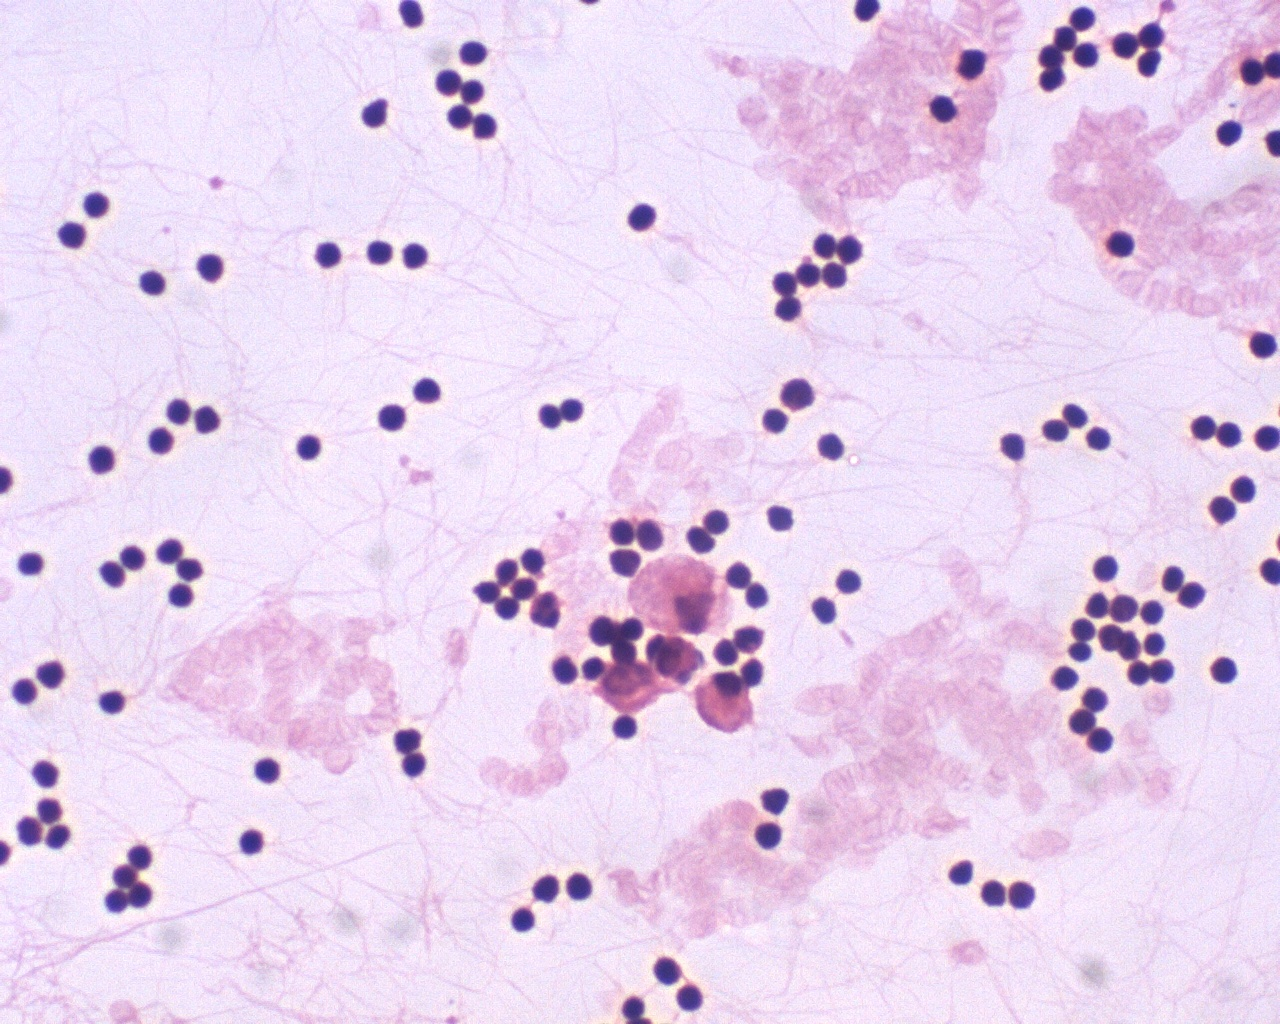histo: (689, 670, 755, 735)
lymph: (370, 393, 423, 443), (82, 439, 134, 484), (621, 194, 664, 239), (404, 371, 450, 410), (192, 247, 233, 288), (1102, 223, 1140, 264), (453, 31, 494, 69), (1004, 874, 1044, 911), (250, 749, 289, 786), (812, 427, 850, 465), (93, 683, 132, 720), (762, 499, 798, 537), (292, 429, 330, 465), (27, 758, 65, 793), (79, 186, 114, 225), (1203, 655, 1243, 686), (759, 401, 793, 438), (1247, 325, 1280, 363), (11, 544, 49, 578), (134, 265, 173, 297), (312, 236, 348, 271), (565, 868, 598, 906), (1084, 422, 1118, 457), (1089, 551, 1124, 584), (603, 712, 641, 743), (673, 982, 707, 1016), (1205, 494, 1239, 528), (165, 580, 200, 613), (365, 235, 398, 270), (400, 242, 437, 274), (832, 561, 862, 599), (926, 94, 963, 124), (754, 820, 787, 854), (470, 112, 505, 143), (510, 901, 540, 936), (1049, 660, 1081, 693), (1251, 422, 1280, 458), (1215, 116, 1248, 147), (236, 824, 264, 860), (1041, 414, 1069, 447), (166, 393, 193, 425)
